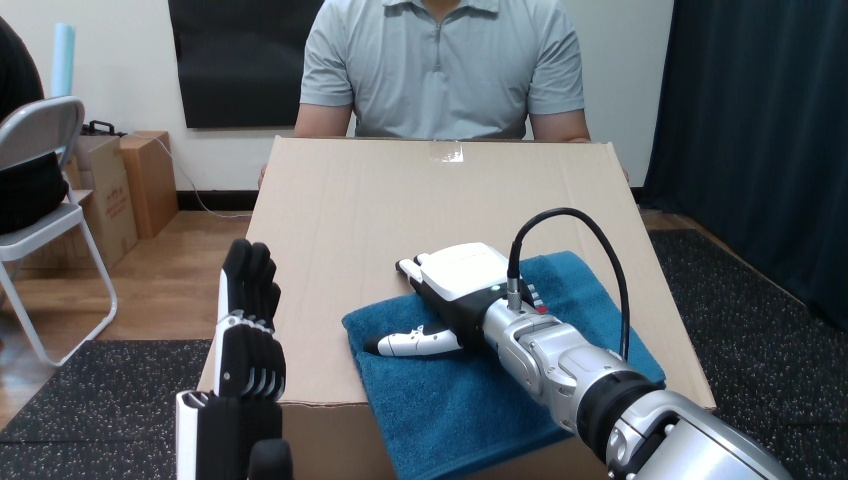left robot hand: (345, 243, 568, 477), (176, 239, 291, 479)
